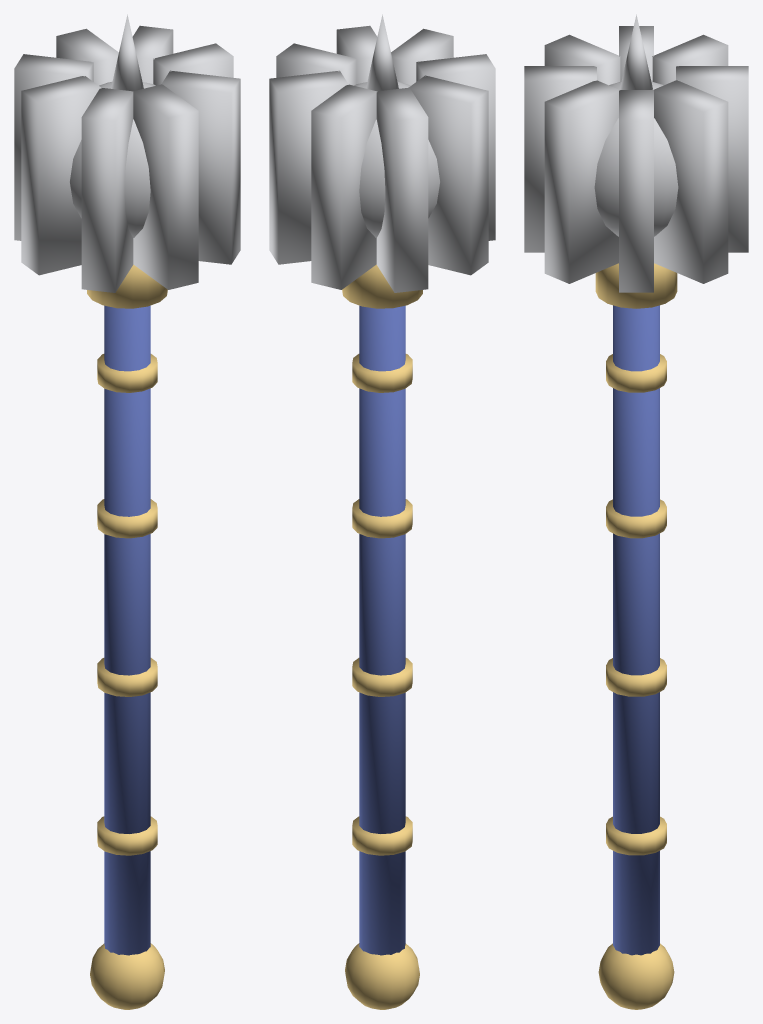
Rendered from cleric_mace.glb.
3 views of the same model, side by side, from view 1: azimuth 30°, elevation 25°; view 2: azimuth 150°, elevation 25°; view 3: azimuth 270°, elevation 25° (orthographic).
Visible parts, largest first — view 1: WEAPON_Mace; view 2: WEAPON_Mace; view 3: WEAPON_Mace.
Part boxes in pixels (left/top/right/bottom): WEAPON_Mace: left=14, top=14, right=240, bottom=1009; WEAPON_Mace: left=269, top=14, right=495, bottom=1009; WEAPON_Mace: left=524, top=14, right=748, bottom=1009.
Size of the model in its own units: 0.154 by 0.751 by 0.154.
